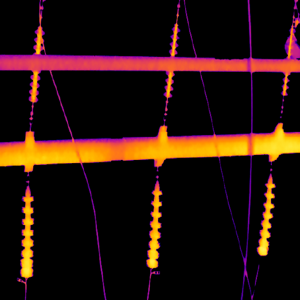insulator: (255, 172, 275, 254), (145, 179, 162, 268), (162, 24, 180, 100), (19, 186, 34, 277), (27, 26, 43, 102), (279, 25, 294, 96)
